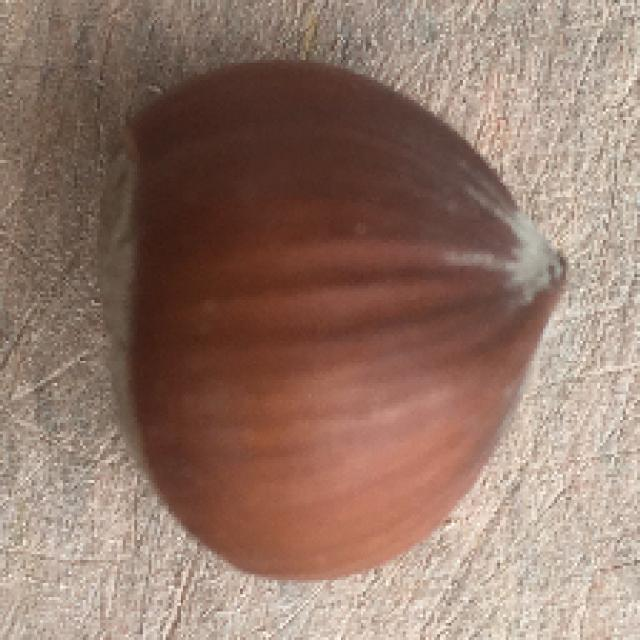qualityHazelnut: (107, 59, 568, 572)
